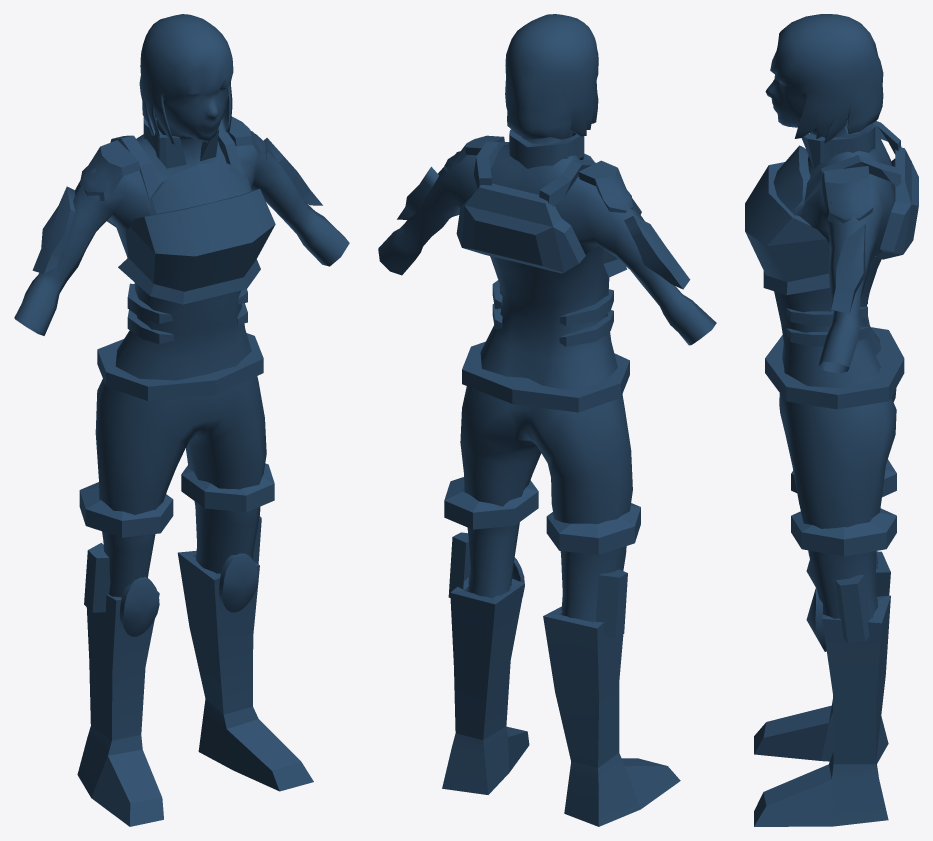
File: Character_Sizzle_001_SK 1.fbx
The picture shows the model from 3 angles, left to right: view 1: azimuth 30°, elevation 25°; view 2: azimuth 150°, elevation 25°; view 3: azimuth 270°, elevation 25°; orthographic projection.
Visible parts, largest first — view 1: Armour; view 2: Armour; view 3: Armour.
Boxes of the visible parts, x1,y1,x2,y2 form: Armour: (14,14,349,826); Armour: (378,14,716,826); Armour: (745,14,918,826).
Bounding box in the file's own units: 84.15 × 184 × 38.
